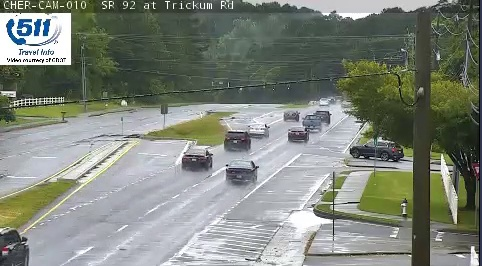car: (226, 160, 257, 178), (182, 148, 211, 167), (224, 129, 250, 149), (302, 114, 321, 130), (288, 127, 308, 142), (249, 123, 269, 137), (313, 110, 330, 124), (284, 109, 299, 120)
